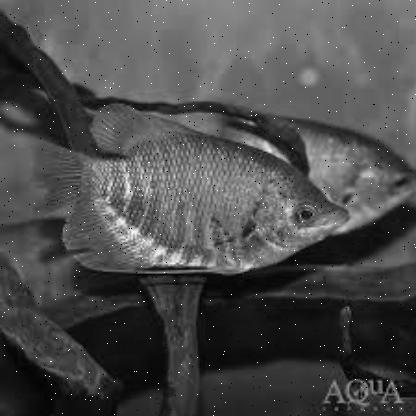gurame: (68, 114, 346, 286)
